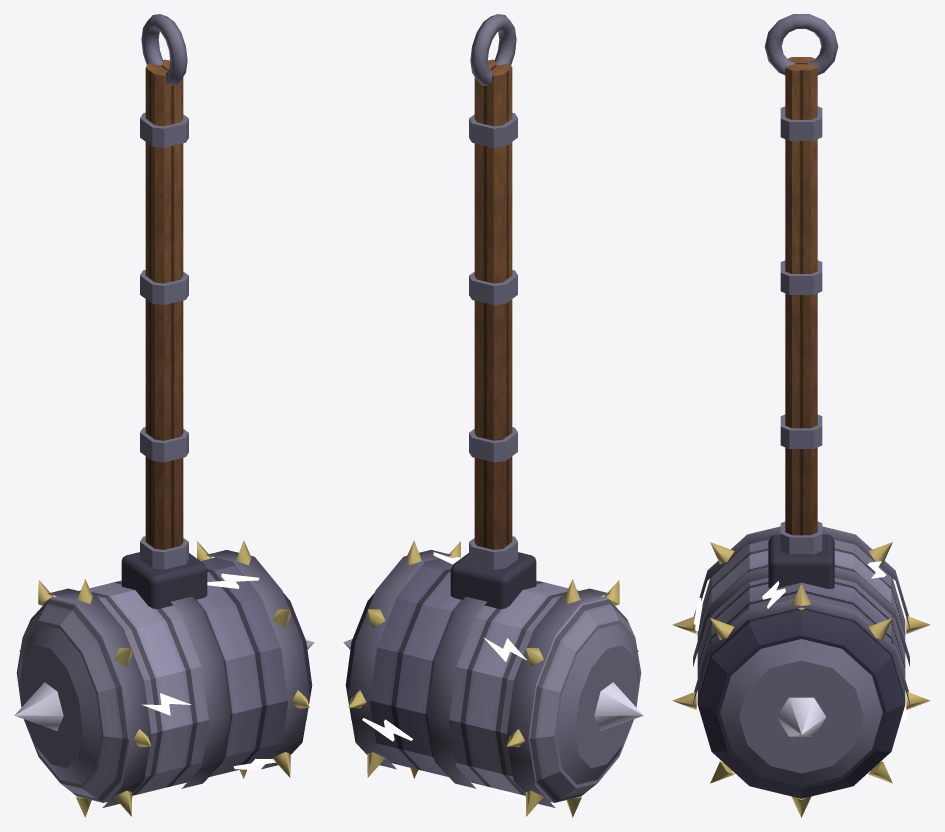
Rendered from martelo-pendulo.glb.
The picture shows the model from 3 angles, left to right: view 1: azimuth 30°, elevation 25°; view 2: azimuth 150°, elevation 25°; view 3: azimuth 270°, elevation 25°; orthographic projection. The views are drawn at different scales.
Parts seen in each view (by area): view 1: martelo-pendulo; view 2: martelo-pendulo; view 3: martelo-pendulo.
Part boxes in pixels (left/top/right/bottom): martelo-pendulo: left=14, top=14, right=314, bottom=817; martelo-pendulo: left=343, top=14, right=643, bottom=817; martelo-pendulo: left=672, top=14, right=930, bottom=817.
Size of the model in its own units: 3.6 by 8.95 by 2.74.
Materials: 4 (2 with a texture image).
